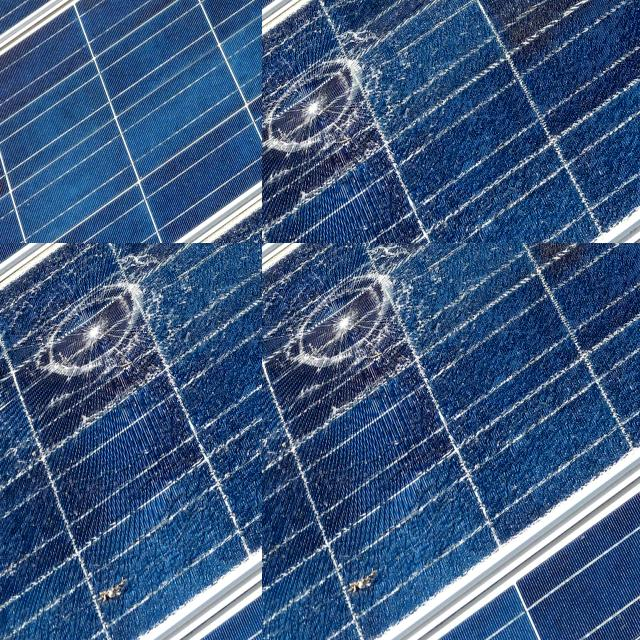crack: (262, 65, 345, 243), (262, 0, 339, 114), (262, 29, 309, 201), (262, 0, 323, 129), (262, 0, 315, 72), (262, 0, 305, 53)
dust: (0, 353, 185, 627), (5, 243, 262, 310), (203, 356, 262, 567), (0, 280, 147, 345), (162, 260, 262, 345), (55, 144, 121, 243), (0, 243, 52, 319), (34, 65, 90, 132), (140, 152, 178, 226), (99, 94, 159, 130), (187, 203, 227, 243)
